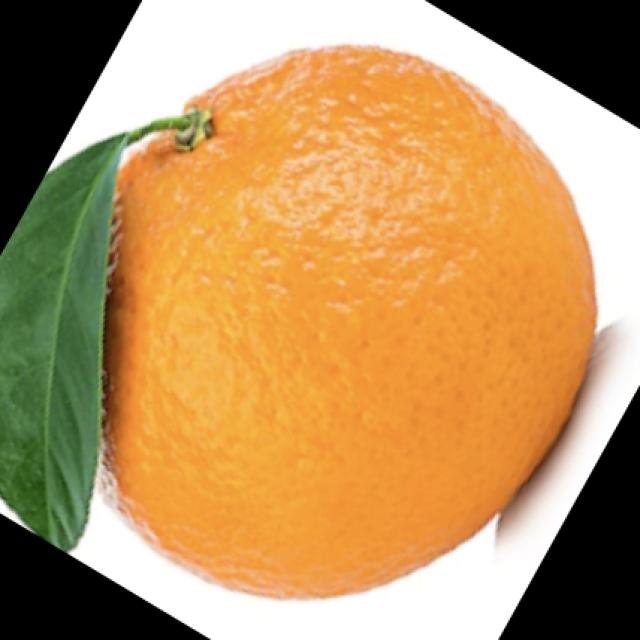matang: (99, 44, 596, 593)
